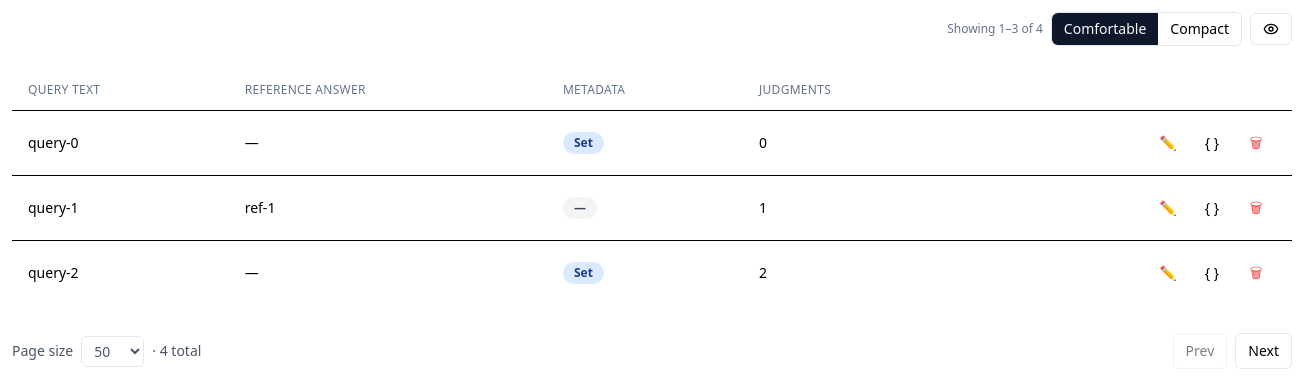
Test: QueriesTable (DataTable migration) › paginates Next then Prev correctly
Check: the text "query-0" is shown, box top-left (28, 133), bottom-right (79, 152)
Click the button with test id "paginator-next" at (1264, 351), box top-left (1235, 333), bottom-right (1292, 369)
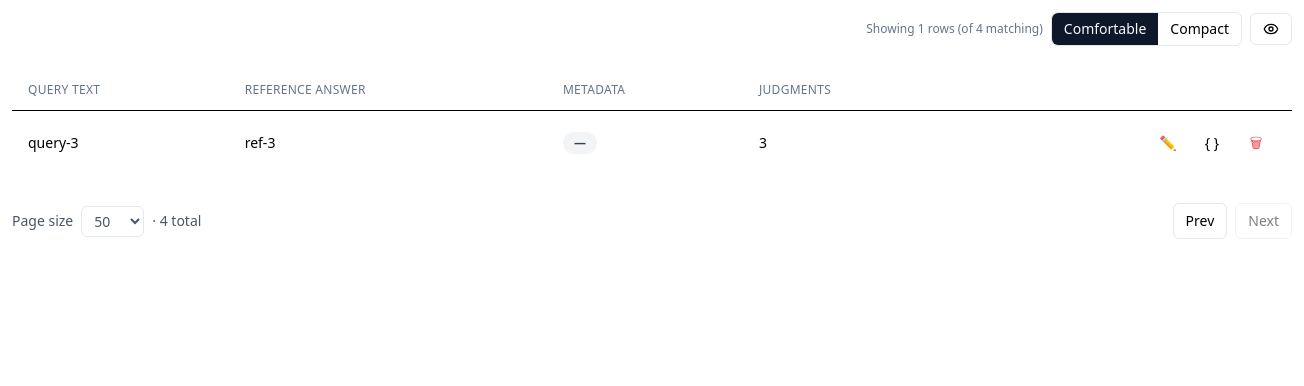
Check: the text "query-3" is shown, box top-left (28, 133), bottom-right (79, 152)
Check: the text "query-0" is gone
Click the button with test id "paginator-prev" at (1200, 221), box top-left (1173, 203), bottom-right (1227, 239)
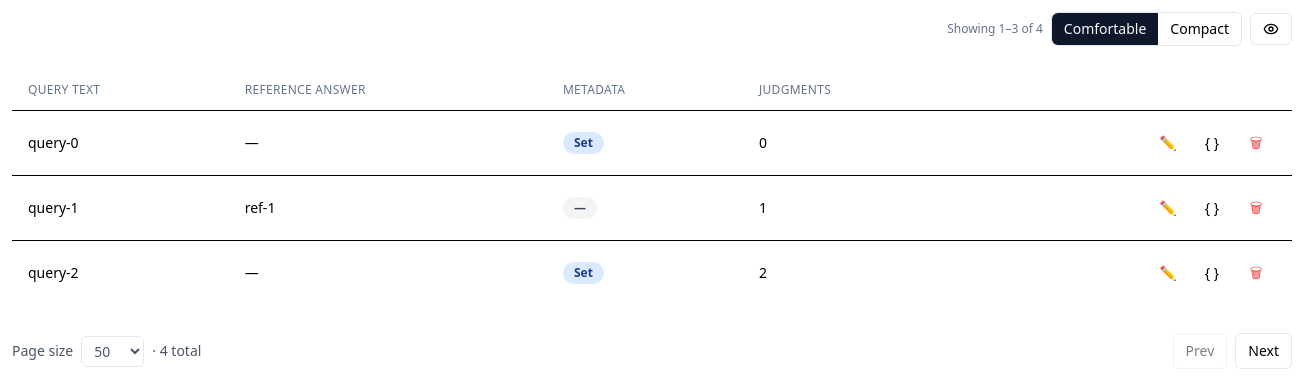
Check: the text "query-0" is shown, box top-left (28, 133), bottom-right (79, 152)
